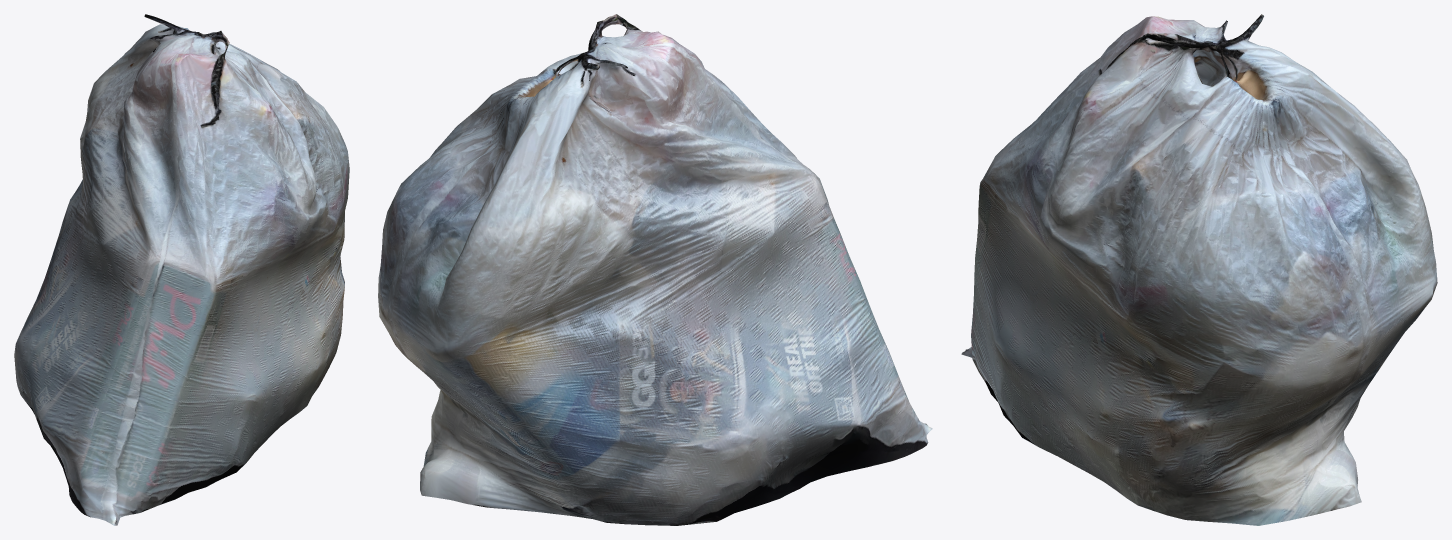
Rendered from GarbageBagWhite.fbx.
3 renders of one model, left to right at view 1: azimuth 30°, elevation 25°; view 2: azimuth 150°, elevation 25°; view 3: azimuth 270°, elevation 25°, orthographic. The views are drawn at different scales.
Parts seen in each view (by area): view 1: GarbageWhiteNew_Baked; view 2: GarbageWhiteNew_Baked; view 3: GarbageWhiteNew_Baked.
Boxes of the visible parts, x1,y1,x2,y2 form: GarbageWhiteNew_Baked: (14, 14, 349, 525); GarbageWhiteNew_Baked: (378, 14, 932, 525); GarbageWhiteNew_Baked: (961, 14, 1437, 525).
Size of the model in its own units: 64.18 by 65.2 by 65.01.
